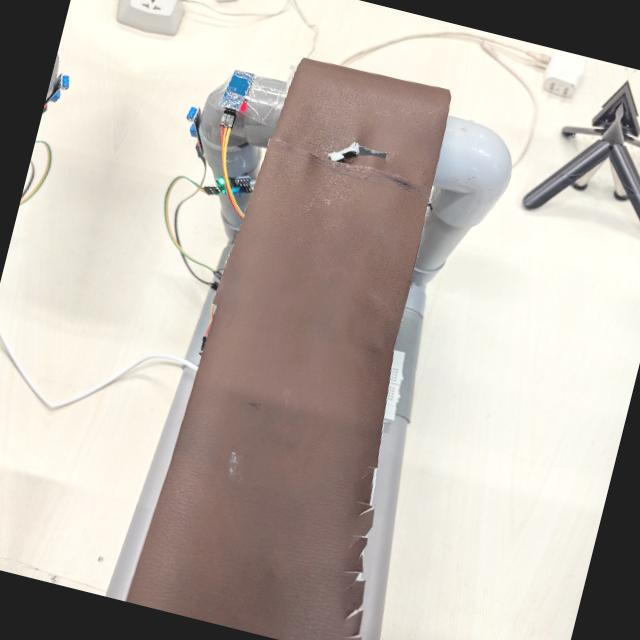joint_damage: (318, 127, 405, 187)
